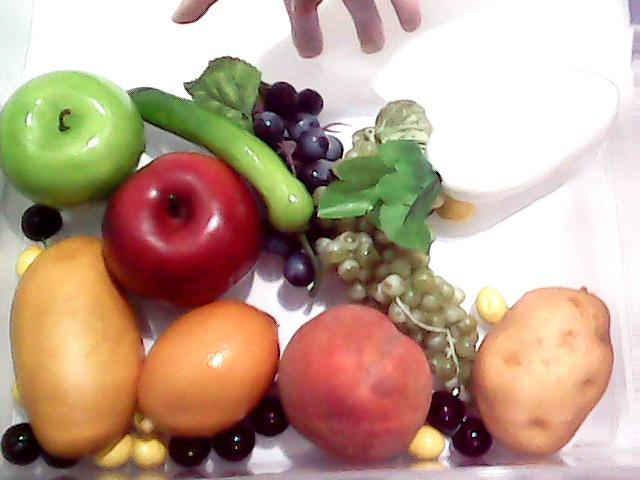apple: (96, 148, 272, 312), (0, 55, 152, 206)
grape: (326, 212, 490, 354), (264, 84, 340, 288)
lemon: (130, 295, 282, 447)
mango: (8, 229, 136, 451)
peach: (262, 290, 438, 478)
pepper: (120, 63, 312, 243)
potato: (474, 286, 618, 460)
radish: (315, 58, 640, 253)
